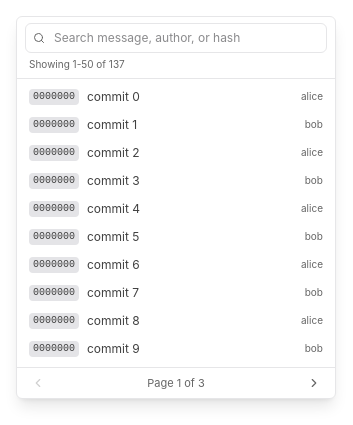
Test: CommitPicker — multi-page history › disables Prev on page 1 and Next on last page
This screenshot has width=353, height=425.
Expected: the text "Page 1 of 3" is shown, [147, 375, 205, 391]
Expected: the button named "Previous page" is disabled, [25, 374, 51, 392]
Click the button named "Next page" at (314, 383), box [301, 374, 327, 392]
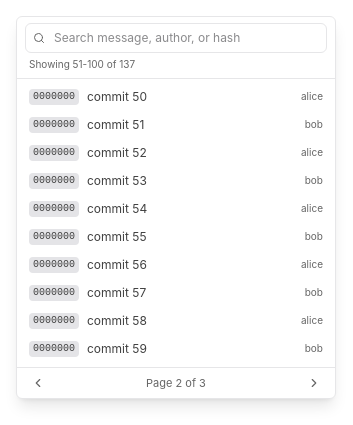
Now the text "Page 2 of 3" is shown, box [146, 375, 206, 391]
Click the button named "Next page" at (314, 383), box [301, 374, 327, 392]
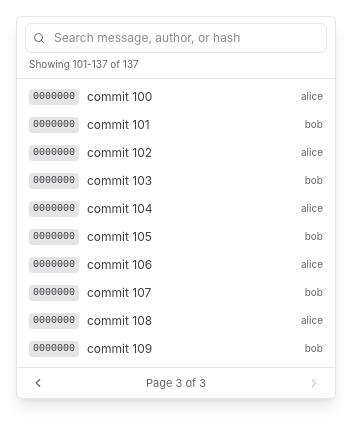
Now the button named "Previous page" is enabled, box [25, 374, 51, 392]
Now the text "Page 3 of 3" is shown, box [146, 375, 206, 391]
Now the button named "Next page" is disabled, box [301, 374, 327, 392]
